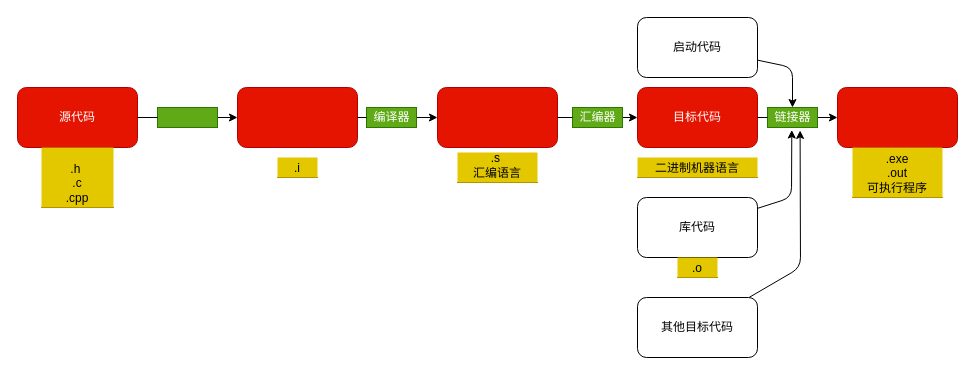
This 975x375 diagram has some shape labels left out. Here are the shapes that lost their labels. From the top down, the centre of each, then its label:
At (x=187, y=117): "预处理器".
At (x=297, y=117): "预处理后源代码".
At (x=497, y=117): "汇编代码".
At (x=897, y=117): "可执行程序".
